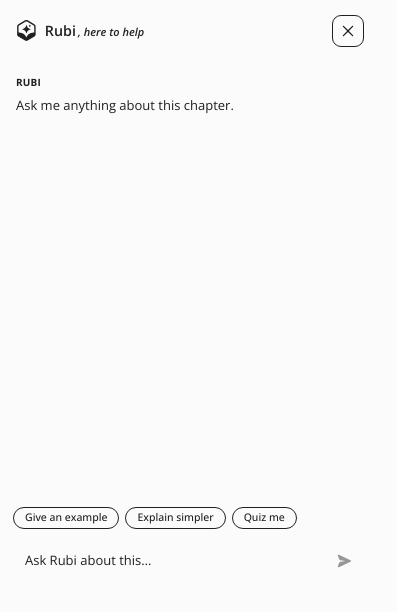
Test: Compass Rubi right rail (Figma 49:3053) › Enter in the input sends too
Type "Explain simpler" into the field labelled "Ask Rubi" at (174, 561), box [25,551,322,571]
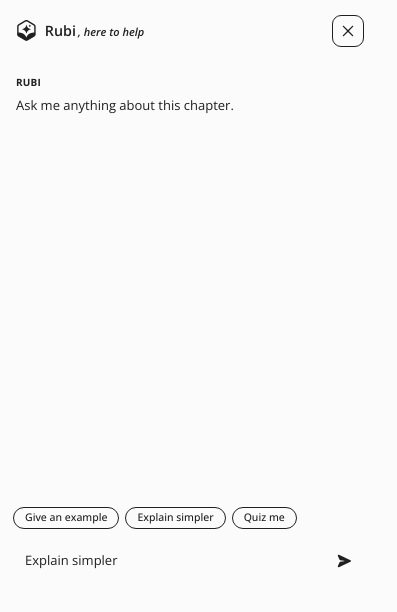
Submit the form named "Ask Rubi", box [0,494,380,595]
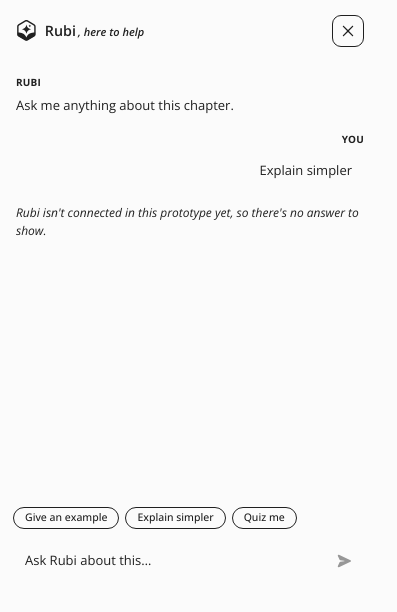
Expected: the text "Explain simpler" is shown, [260,160,352,178]
